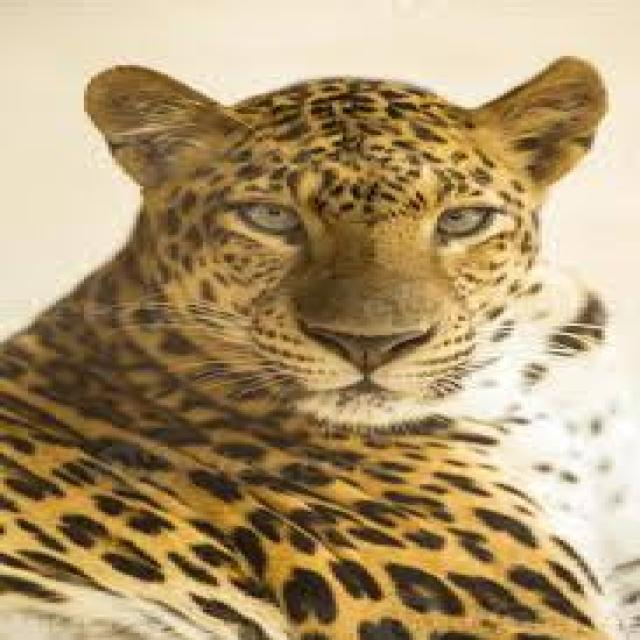Jaguar: (66, 44, 591, 633)
